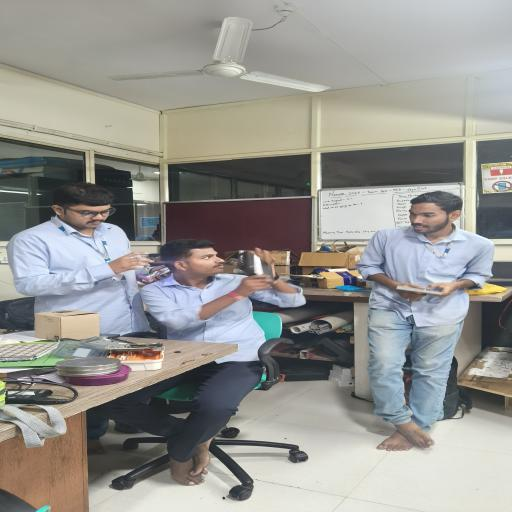survivor: (86, 238, 306, 486), (353, 192, 495, 452), (6, 183, 160, 337)
